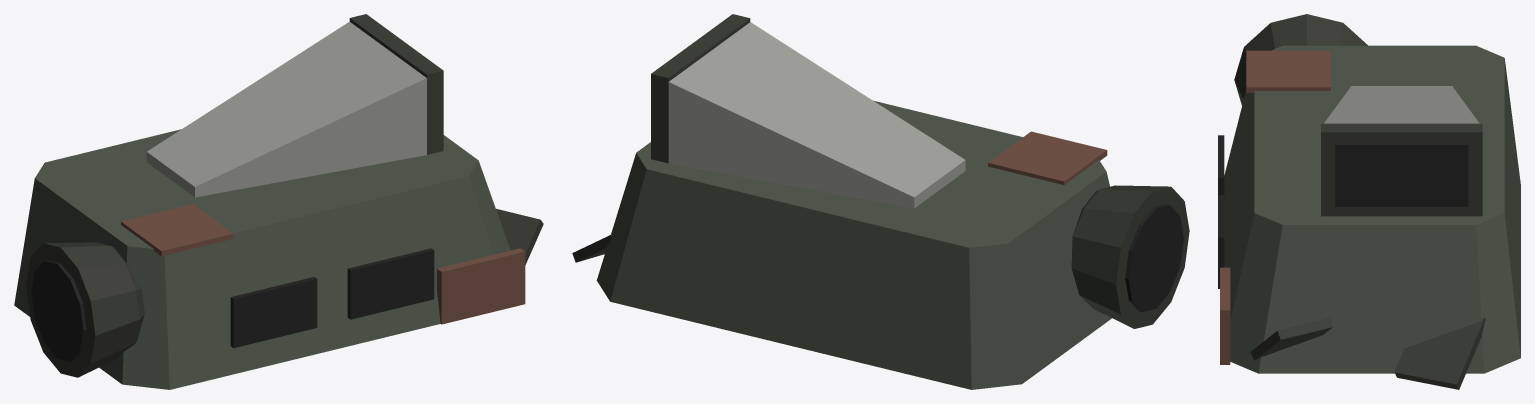
The model's file is junk_dropship_engine.obj.
The picture shows the model from 3 angles, left to right: view 1: azimuth 30°, elevation 25°; view 2: azimuth 150°, elevation 25°; view 3: azimuth 270°, elevation 25°; orthographic projection. The views are drawn at different scales.
Visible parts, largest first — view 1: junk_dropship_engine_0, junk_dropship_engine_1, junk_dropship_engine_4, junk_dropship_engine_11, junk_dropship_engine_6, junk_dropship_engine_7, junk_dropship_engine_5, junk_dropship_engine_10, junk_dropship_engine_2, junk_dropship_engine_8; view 2: junk_dropship_engine_0, junk_dropship_engine_1, junk_dropship_engine_4, junk_dropship_engine_5, junk_dropship_engine_10, junk_dropship_engine_2; view 3: junk_dropship_engine_0, junk_dropship_engine_3, junk_dropship_engine_2, junk_dropship_engine_1, junk_dropship_engine_9, junk_dropship_engine_10, junk_dropship_engine_4, junk_dropship_engine_8, junk_dropship_engine_11, junk_dropship_engine_7, junk_dropship_engine_6.
Part boxes in pixels (x1,y1,x2,y2): junk_dropship_engine_0: (14,129,510,389); junk_dropship_engine_1: (146,21,426,197); junk_dropship_engine_4: (26,242,144,377); junk_dropship_engine_11: (437,248,525,324); junk_dropship_engine_6: (230,277,317,348); junk_dropship_engine_7: (347,248,434,319); junk_dropship_engine_5: (31,260,86,361); junk_dropship_engine_10: (121,204,233,256); junk_dropship_engine_2: (349,14,443,154); junk_dropship_engine_8: (496,209,543,264); junk_dropship_engine_0: (596,100,1111,389); junk_dropship_engine_1: (668,22,965,208); junk_dropship_engine_4: (1071,185,1189,328); junk_dropship_engine_5: (1125,204,1183,311); junk_dropship_engine_10: (988,131,1107,184); junk_dropship_engine_2: (651,14,750,163); junk_dropship_engine_0: (1224,45,1520,373); junk_dropship_engine_3: (1335,143,1468,206); junk_dropship_engine_2: (1321,123,1482,216); junk_dropship_engine_1: (1324,86,1479,123); junk_dropship_engine_9: (1394,317,1485,389); junk_dropship_engine_10: (1246,50,1330,92); junk_dropship_engine_4: (1234,14,1367,105); junk_dropship_engine_8: (1250,318,1332,360); junk_dropship_engine_11: (1220,267,1230,364); junk_dropship_engine_7: (1218,195,1224,288); junk_dropship_engine_6: (1218,135,1224,194).
Size of the model in its own units: 2.87 by 1.18 by 1.5.
